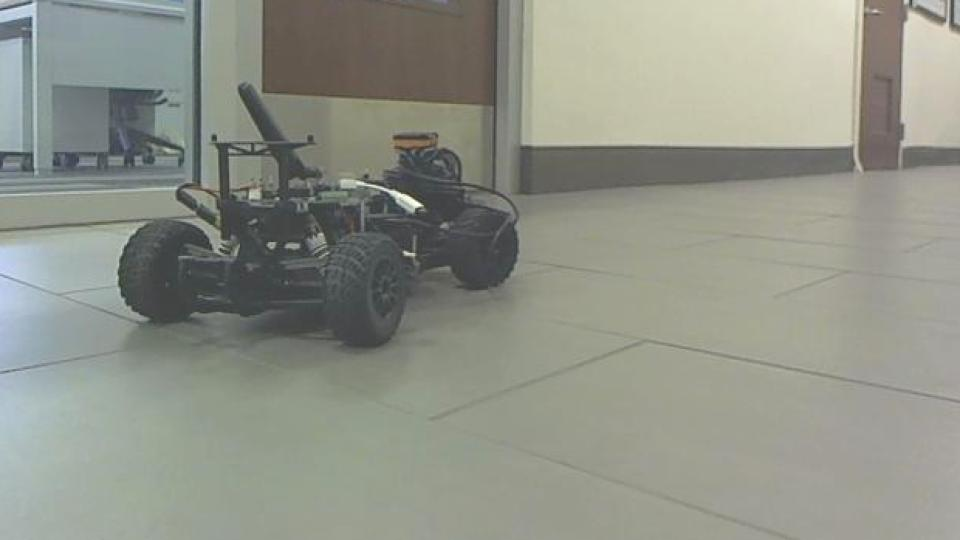car: (113, 78, 522, 351)
